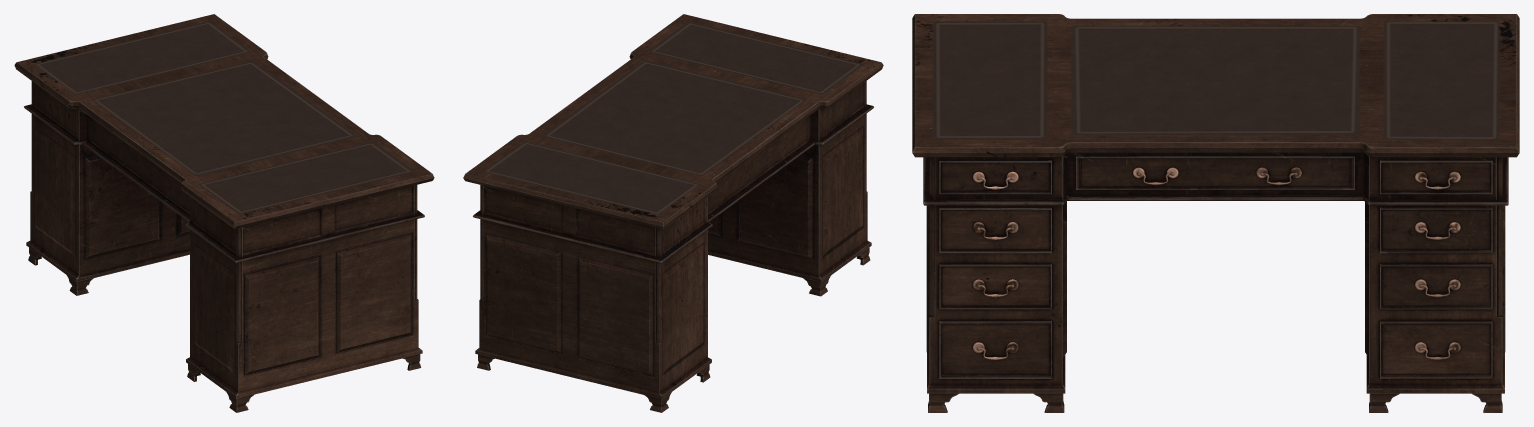
Rendered from antique_office_desk.glb.
3 renders of one model, left to right at view 1: azimuth 30°, elevation 25°; view 2: azimuth 150°, elevation 25°; view 3: azimuth 270°, elevation 25°, orthographic. The views are drawn at different scales.
Visible parts, largest first — view 1: Cube.121, Cube.122, Cube.123, Cylinder.004; view 2: Cube.121, Cube.122, Cube.123, Cylinder.004; view 3: Cube.122, Cube.121, Cube.127, Cube.136, Cube.126, Cube.134, Cube.133, Cube.132, Cube.125, Cube.123, Cube.135, Cube.124 (+1 smaller).
Part boxes in pixels (x1=…): Cube.121: x1=26, y1=82, x2=422, y2=398; Cube.122: x1=14, y1=14, x2=434, y2=229; Cube.123: x1=24, y1=104, x2=424, y2=262; Cylinder.004: x1=31, y1=81, x2=417, y2=343; Cube.121: x1=475, y1=81, x2=871, y2=399; Cube.122: x1=463, y1=14, x2=883, y2=229; Cube.123: x1=473, y1=104, x2=873, y2=263; Cylinder.004: x1=480, y1=81, x2=866, y2=343; Cube.122: x1=912, y1=14, x2=1519, y2=157; Cube.121: x1=926, y1=152, x2=1505, y2=393; Cube.127: x1=1076, y1=156, x2=1354, y2=189; Cube.136: x1=939, y1=320, x2=1051, y2=378; Cube.126: x1=1380, y1=320, x2=1492, y2=378; Cube.134: x1=939, y1=207, x2=1051, y2=253; Cube.133: x1=1380, y1=207, x2=1492, y2=253; Cube.132: x1=1380, y1=264, x2=1492, y2=309; Cube.125: x1=939, y1=264, x2=1051, y2=309; Cube.123: x1=923, y1=157, x2=1508, y2=205; Cube.135: x1=939, y1=160, x2=1051, y2=194; Cube.124: x1=1380, y1=160, x2=1492, y2=194.
Size of the model in its own units: 2.22 by 2.08 by 4.24.
Materials: 1 (1 with a texture image).
